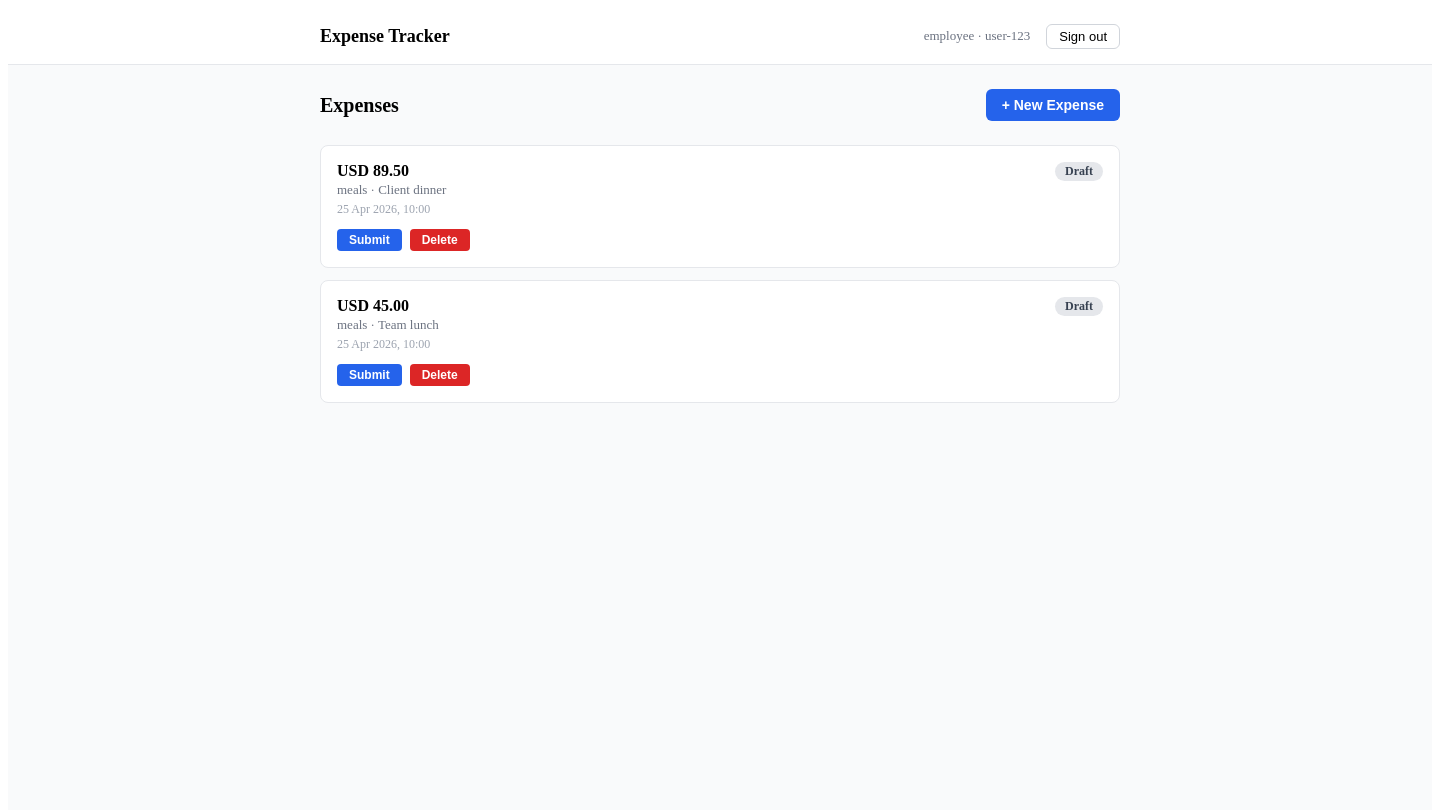
Test: Create expense flow › creates an expense and shows it in the list
The image size is (1440, 810).
Check: the text "meals · Client dinner" is shown, box [337,182,446,198]
Click the button "+ New Expense".
click(1053, 105)  # box [986,89,1120,121]
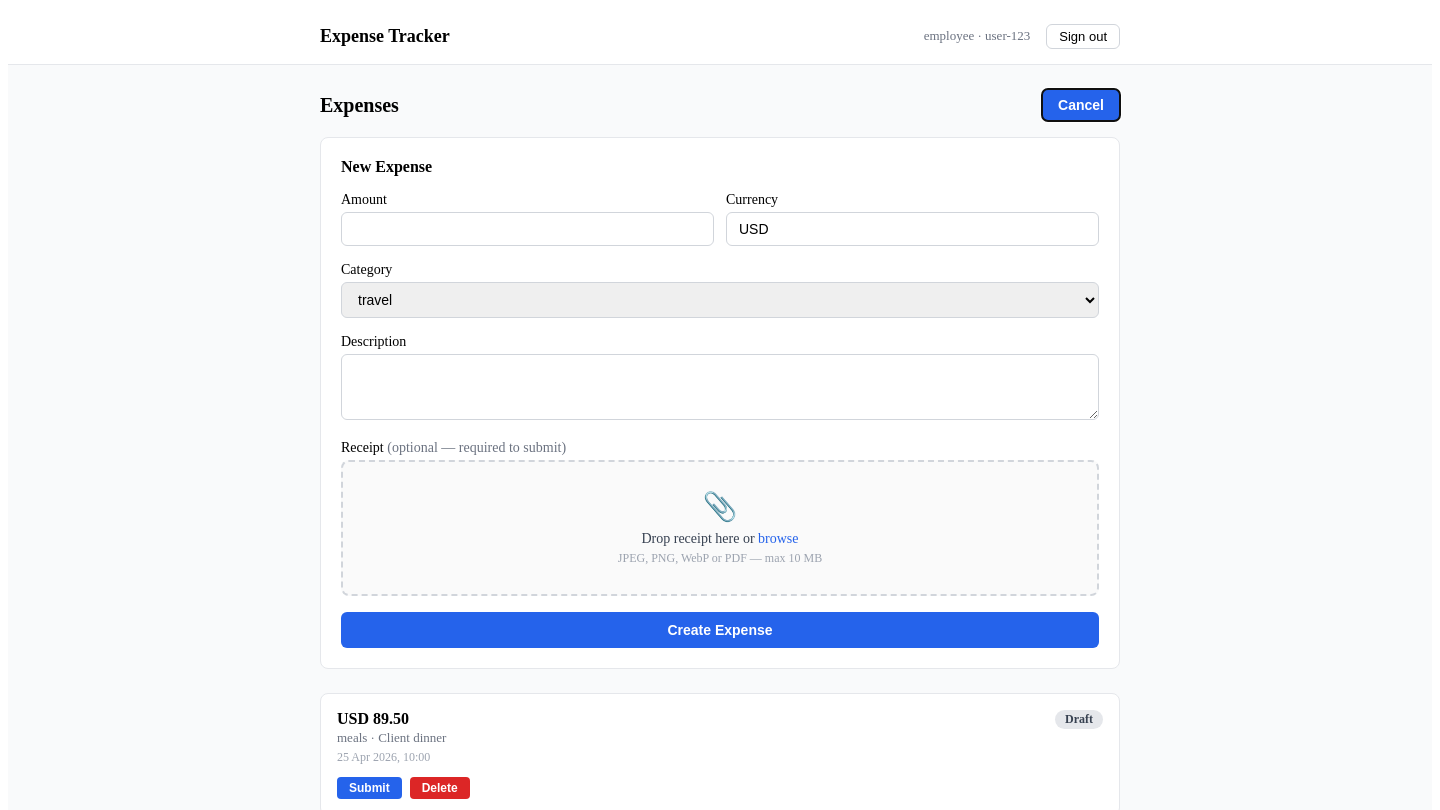
Type "45" into the number field labelled "Amount".
click(528, 229); type("45")  # box [341,212,714,246]
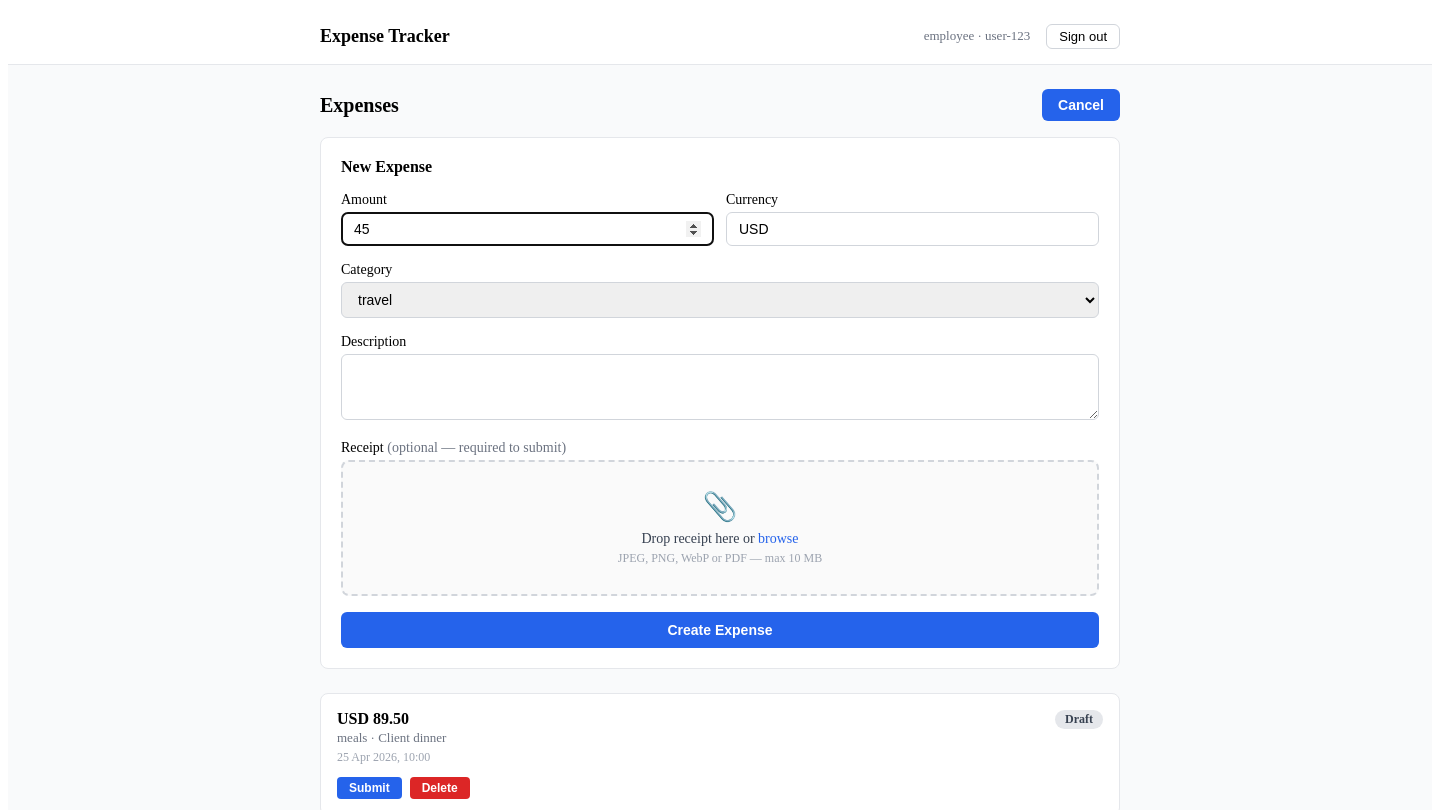
Type "Team lunch" into the text box labelled "Description".
click(720, 387); type("Team lunch")  # box [341,354,1099,420]
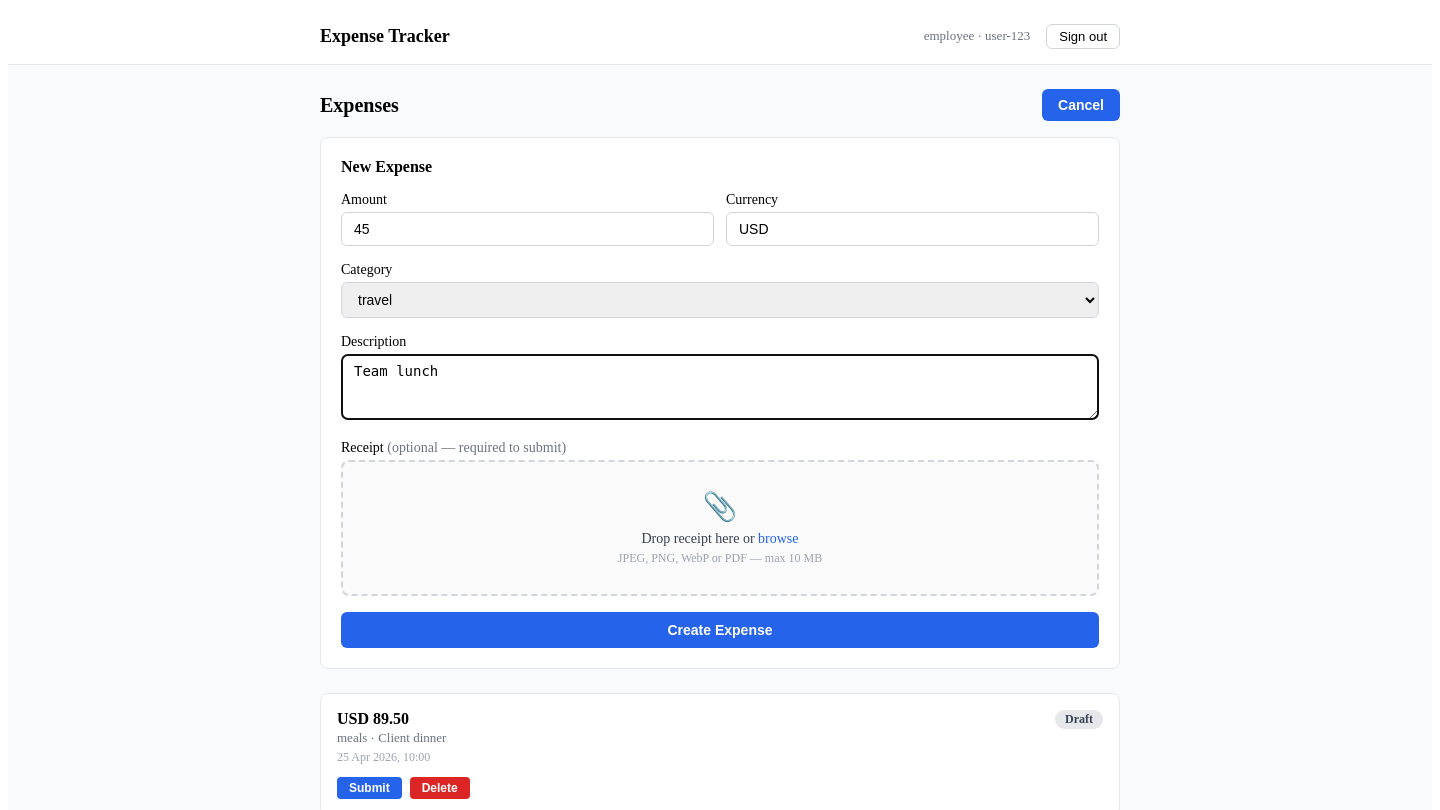
Click the button "Create Expense".
click(720, 630)  # box [341,612,1099,648]
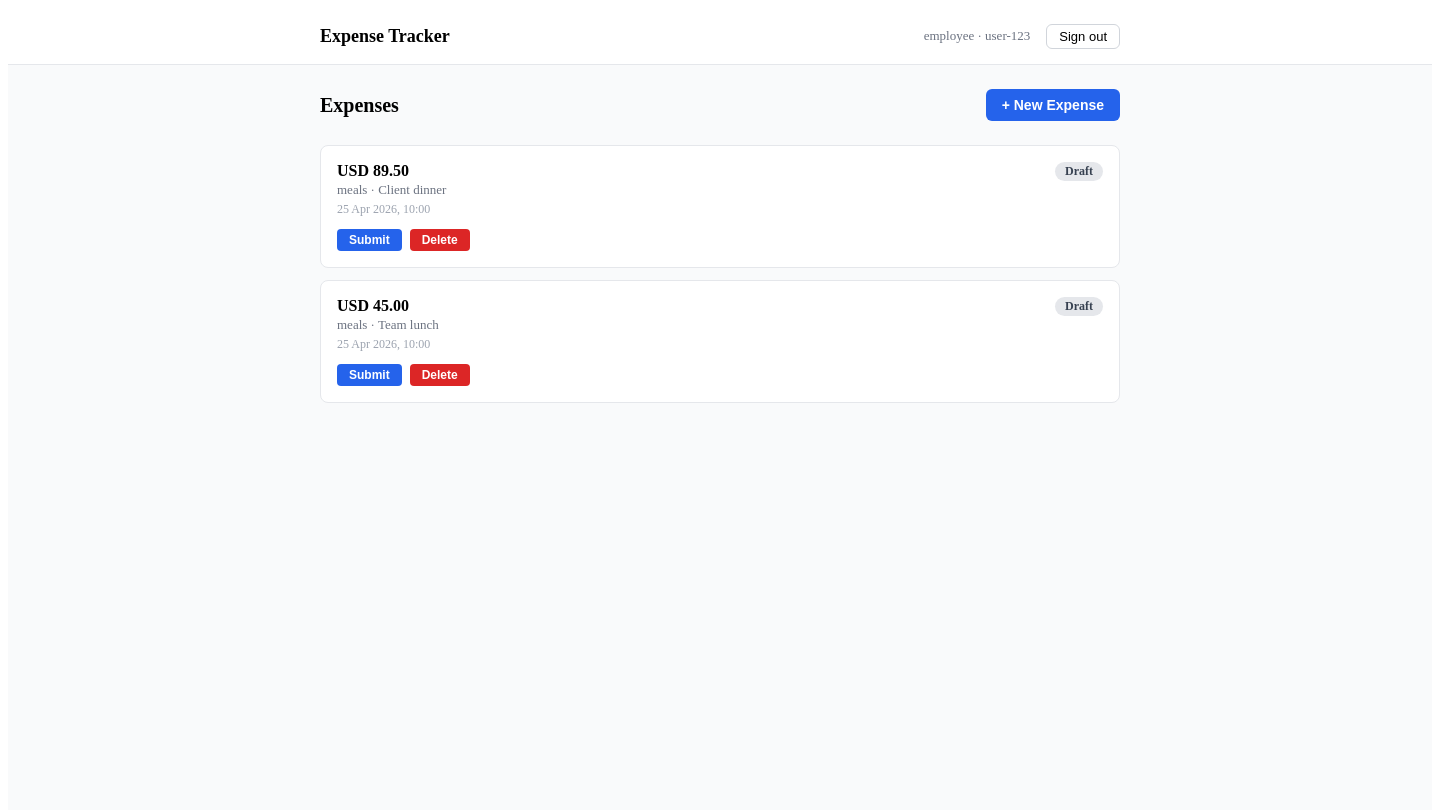
Check: the text "meals · Team lunch" is shown, box [337,317,439,333]
Check: the button "Create Expense" is gone
